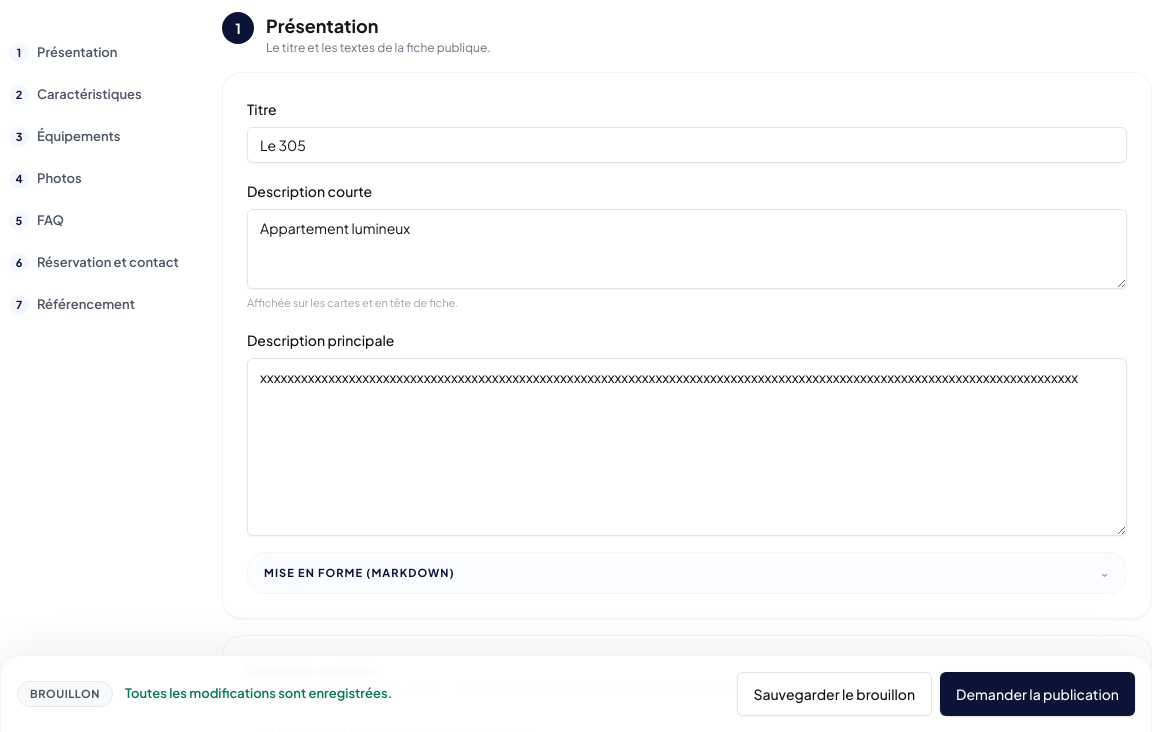
it: 083 — page Logement : erreurs sous les champs › AC-02-01 : brouillon refusé → message de validation sous le champ
This screenshot has width=1152, height=732.
Click the button "Sauvegarder le brouillon": x=834, y=694 [737,672,932,716]
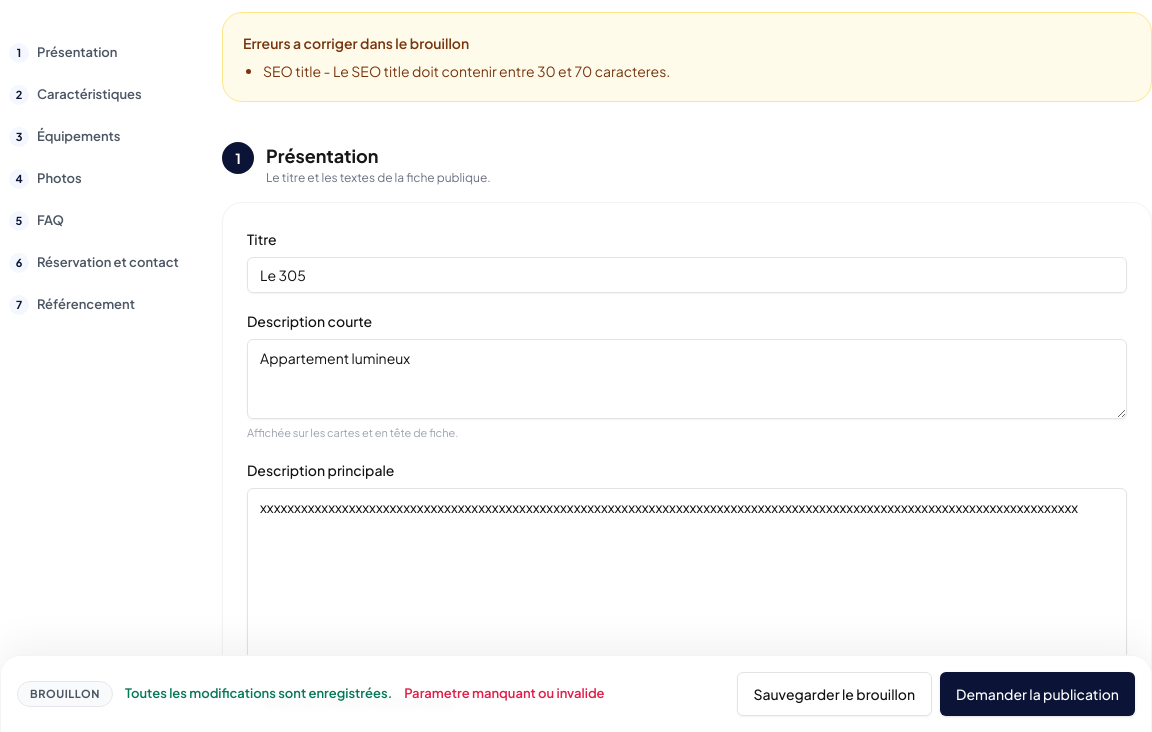
expect the list item "Le SEO title doit contenir entre 30 et 70 caracteres." is shown: met, box [263,62,670,80]
